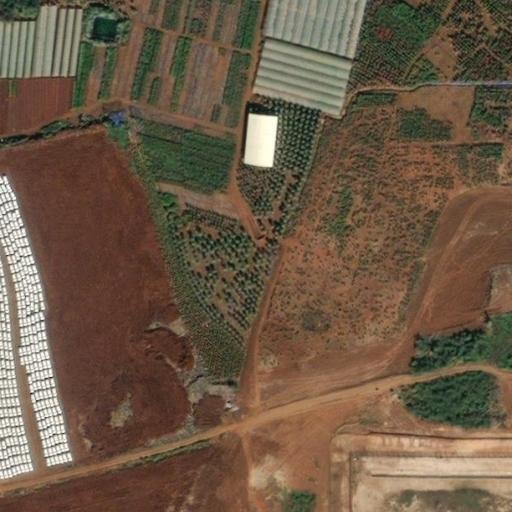building: (243, 114, 277, 168)
